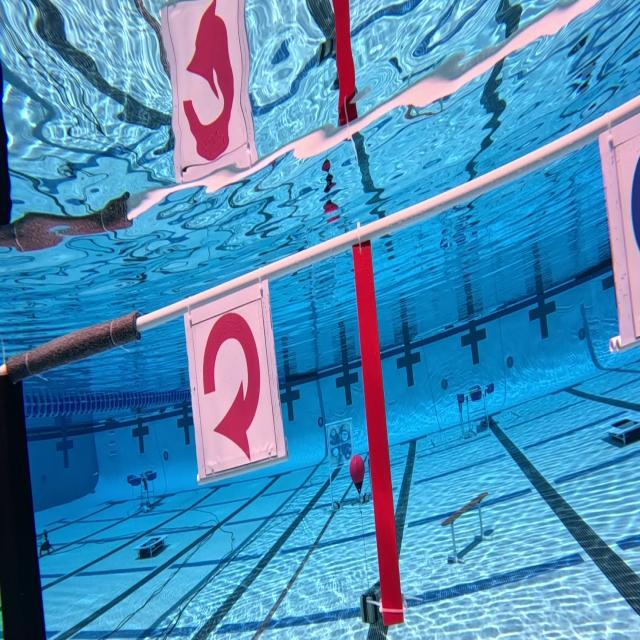red_side: (173, 279, 293, 481)
